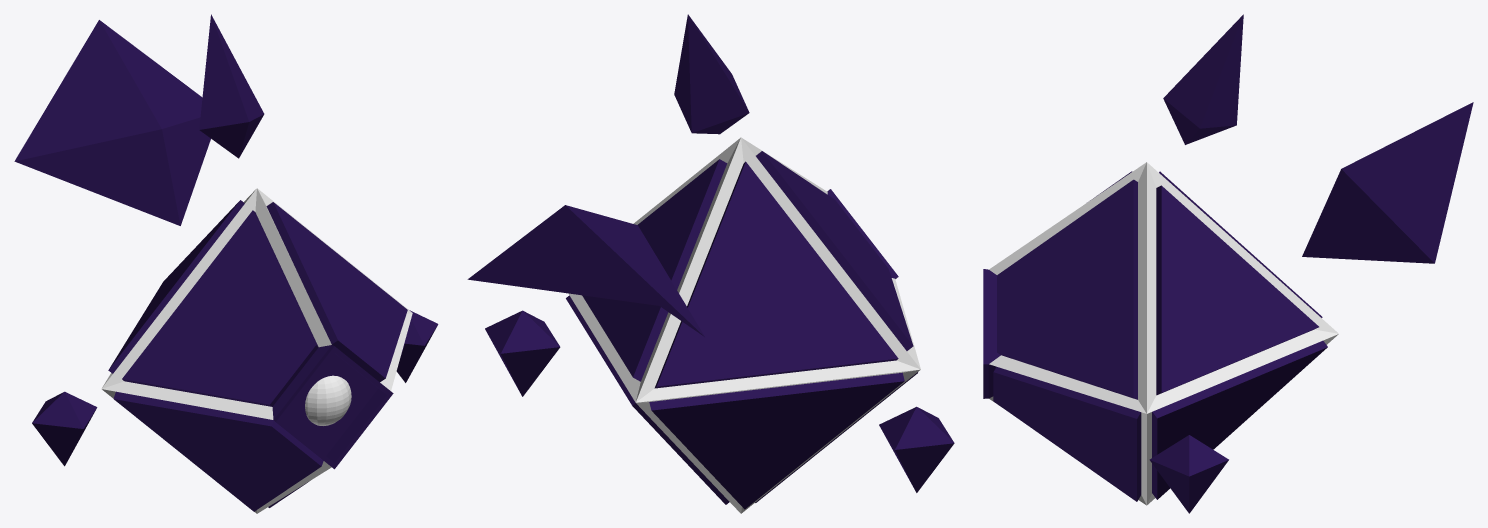
The model's file is GeometricSentry.fbx.
3 views of the same model, side by side, from view 1: azimuth 30°, elevation 25°; view 2: azimuth 150°, elevation 25°; view 3: azimuth 270°, elevation 25° (orthographic). The views are drawn at different scales.
Parts seen in each view (by area): view 1: Body, FIN, Cone.005, Arms; view 2: Body, FIN, Arms, Cone.005; view 3: Body, FIN, Cone.005, Arms.
Part boxes in pixels (x1,y1,x2,y2): Body: (101, 188, 412, 513); FIN: (14, 20, 210, 225); Cone.005: (199, 14, 264, 158); Arms: (32, 310, 438, 466); Body: (566, 137, 920, 513); FIN: (467, 205, 705, 337); Arms: (485, 310, 954, 492); Cone.005: (674, 14, 749, 134); Body: (983, 162, 1338, 505); FIN: (1302, 102, 1473, 263); Cone.005: (1163, 14, 1243, 144); Arms: (1149, 435, 1228, 513).
Bounding box in the file's own units: 257 × 254 × 281.
